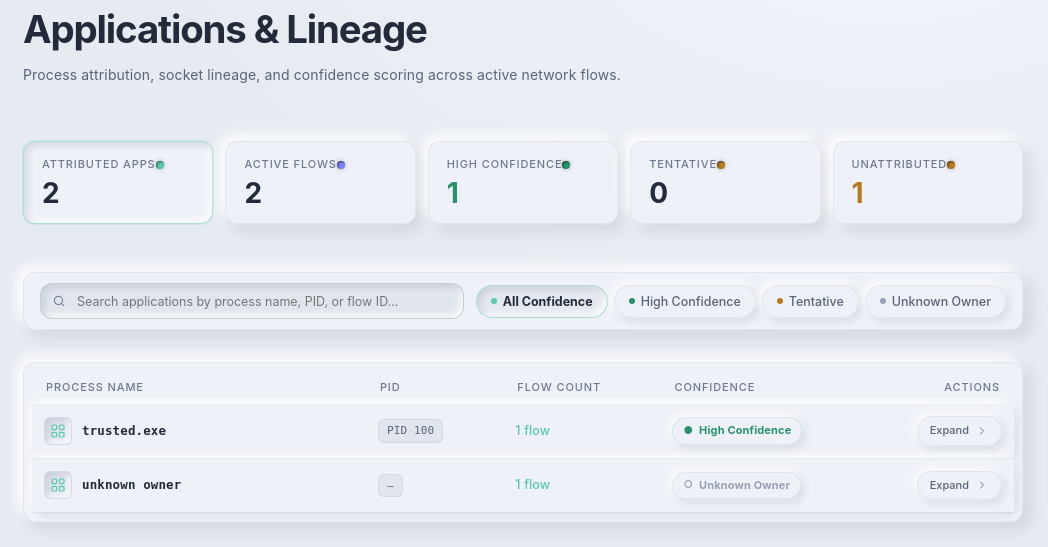
Test case: Apps Screen & useAppsController › supports interactive KPI tiles to filter by confidence and reset to all
This screenshot has width=1048, height=547.
Expected: the text "trusted.exe" is shown, [82,421,166,441]
Expected: the text "unknown owner" is shown, [82,475,181,495]
Note: Click High Confidence KPI tile to filter
Step 1. Click the button with aria-label "High Confidence: 1" → coordinates (523, 183), box [428,141,618,224]
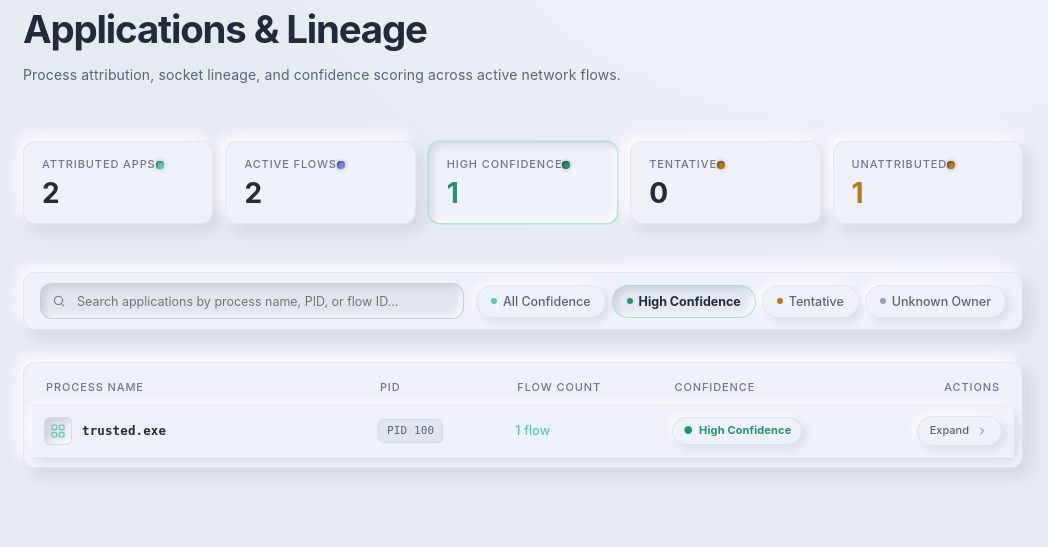
Expected: the text "trusted.exe" is shown, [82,421,166,441]
Note: Re-clicking High Confidence KPI tile toggles back to All
Step 2. Click the button with aria-label "High Confidence: 1" → coordinates (523, 183), box [428,141,618,224]
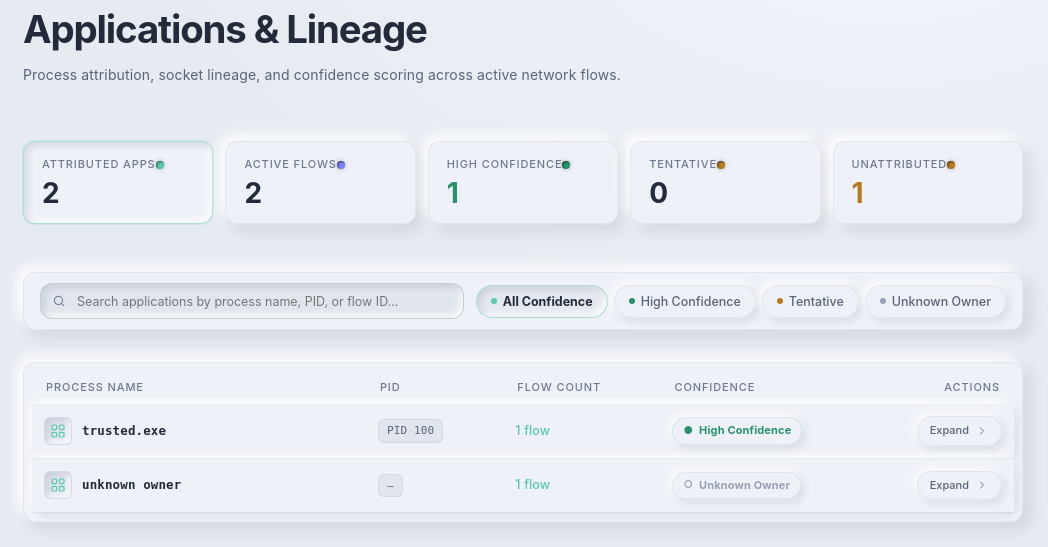
Expected: the text "trusted.exe" is shown, [82,421,166,441]
Expected: the text "unknown owner" is shown, [82,475,181,495]
Note: Click Unattributed KPI tile to filter to unknown
Step 3. Click the button with aria-label "Unattributed: 1" → coordinates (928, 183), box [833,141,1023,224]
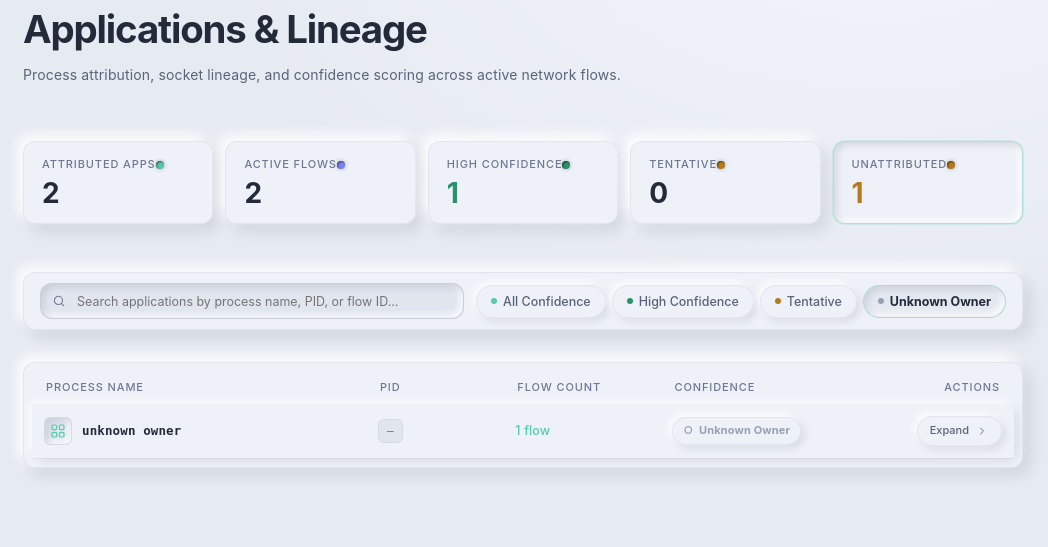
Expected: the text "unknown owner" is shown, [82,421,181,441]
Expected: the text "trusted.exe" is gone
Note: Click Total Apps KPI tile to reset filter to All
Step 4. Click the button with aria-label "Attributed Apps: 2" → coordinates (118, 183), box [23,141,213,224]
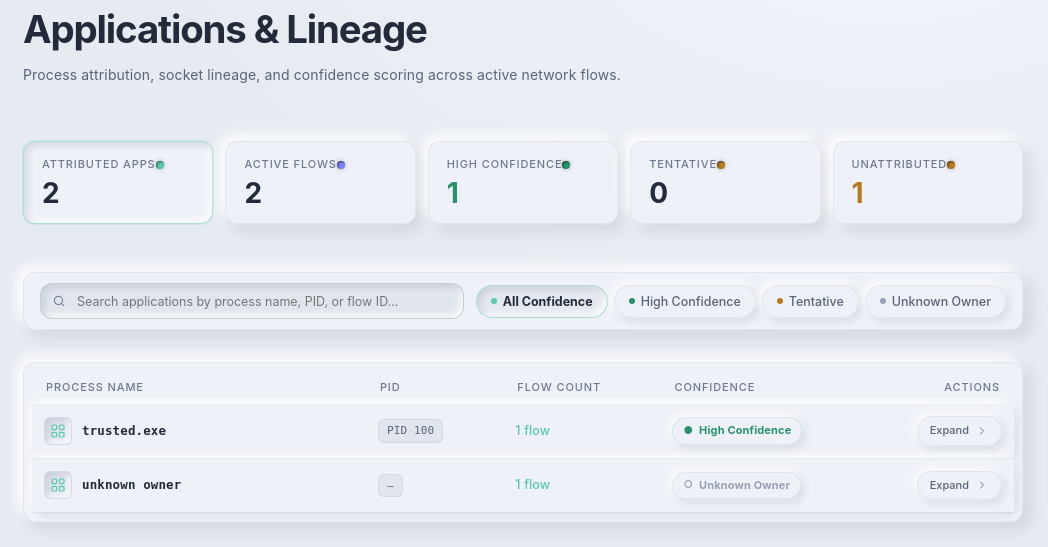
Expected: the text "unknown owner" is shown, [82,475,181,495]
Expected: the text "trusted.exe" is shown, [82,421,166,441]
Note: Click High Confidence filter pill button in the filter bar
Step 5. Click the button with aria-label "Filter by High Confidence" → coordinates (685, 301), box [614,285,756,318]
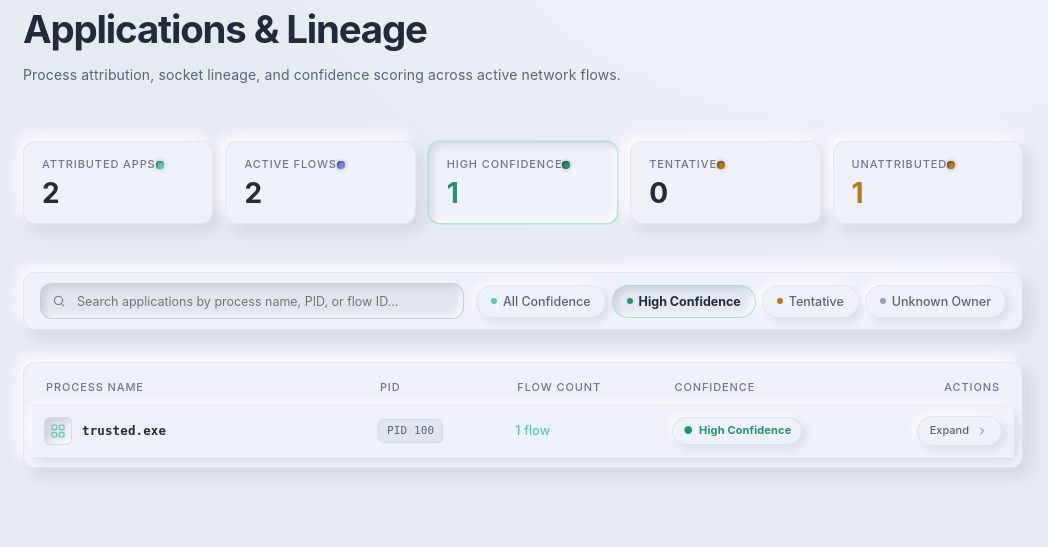
Expected: the text "trusted.exe" is shown, [82,421,166,441]
Note: Re-clicking High Confidence filter pill toggles back to All
Step 6. Click the button with aria-label "Filter by High Confidence" → coordinates (684, 301), box [612,285,756,318]
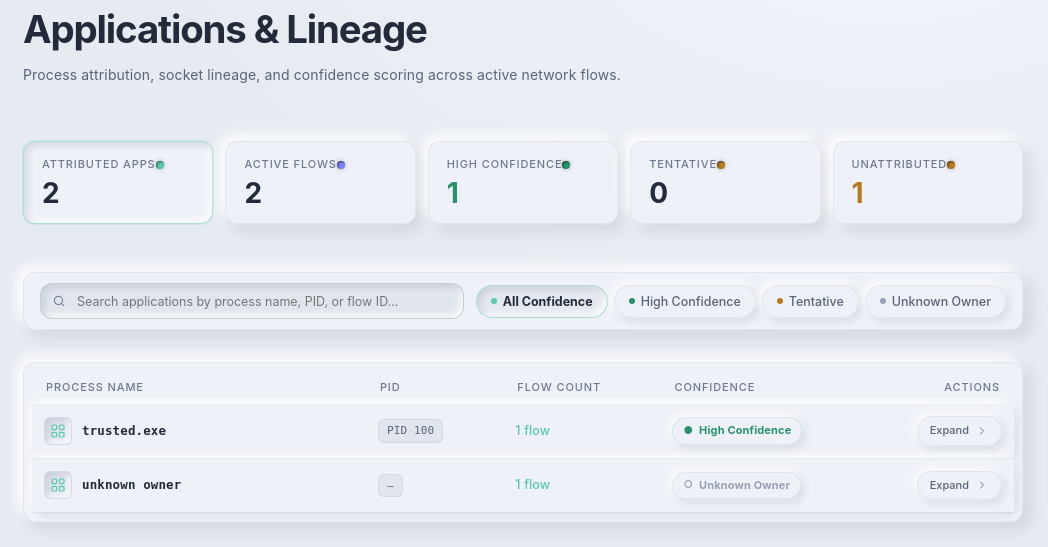
Expected: the text "trusted.exe" is shown, [82,421,166,441]
Expected: the text "unknown owner" is shown, [82,475,181,495]
